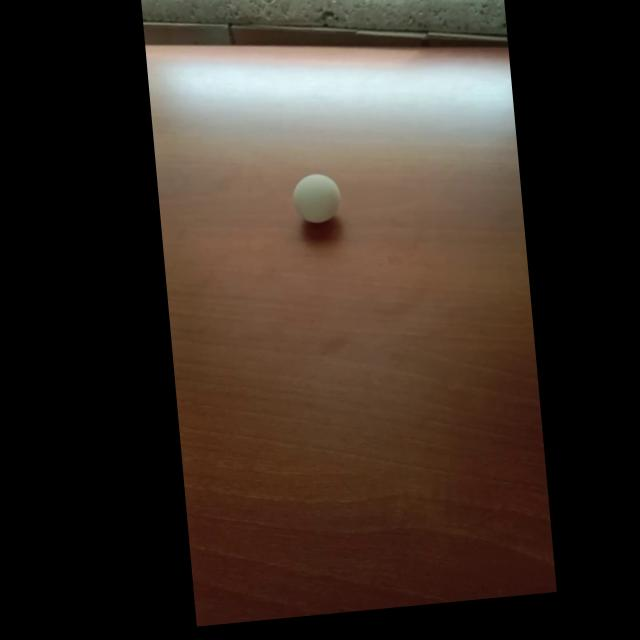white ball: (290, 171, 342, 226)
